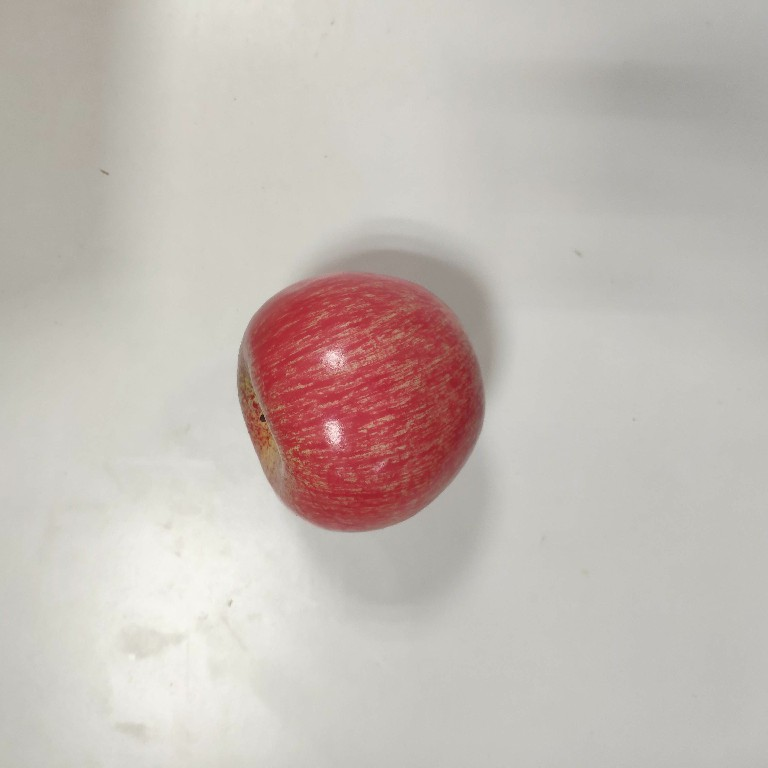fruit_apple: (231, 269, 490, 536)
